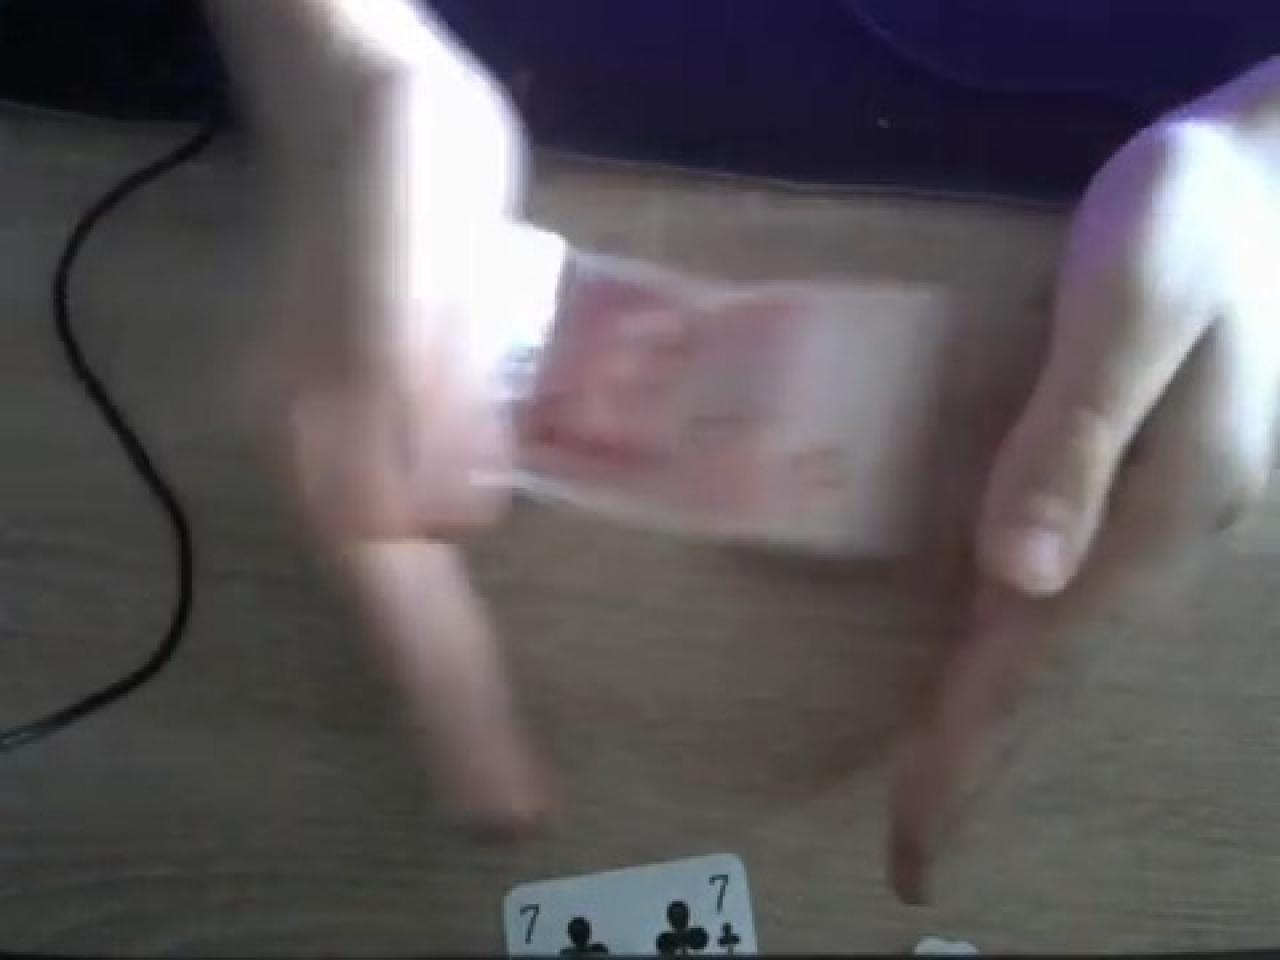5leva: (512, 251, 938, 555)
